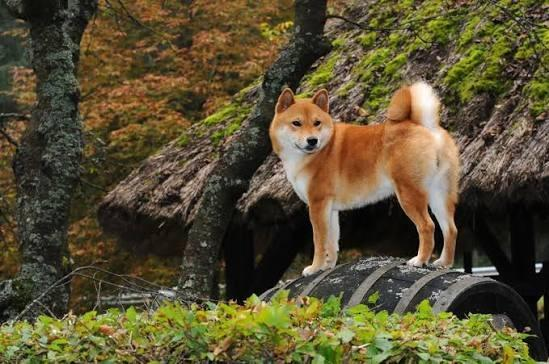adult_dog: (268, 83, 462, 277)
